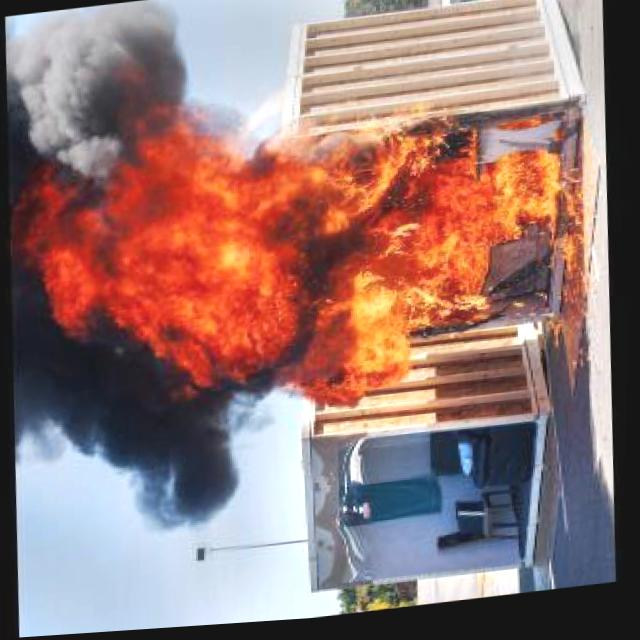helmet: (25, 94, 582, 441)
no_helmet: (37, 380, 251, 555), (0, 0, 203, 166)
